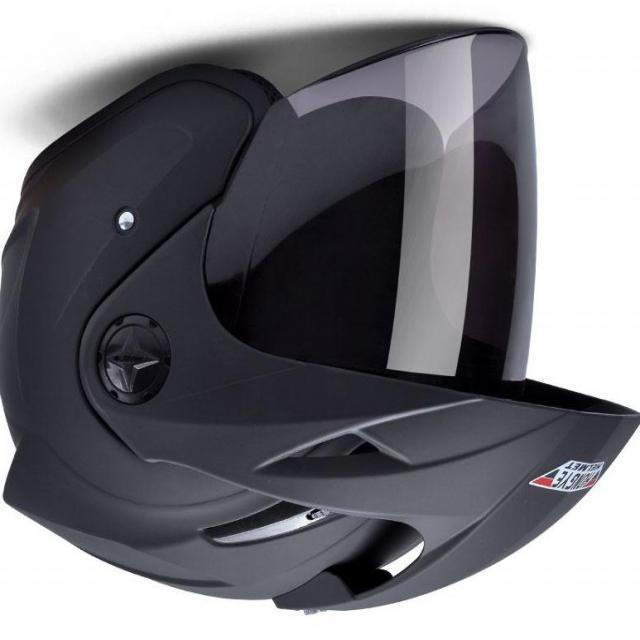Helm: (0, 25, 640, 620)
